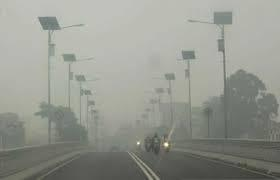Deteksi-Objek-Citra-Berasap: (0, 0, 280, 180)
Kendaraan: (153, 133, 163, 155), (143, 135, 154, 153), (161, 135, 171, 154)
Vegetasi: (211, 69, 279, 142), (34, 101, 87, 144), (0, 111, 27, 148)
